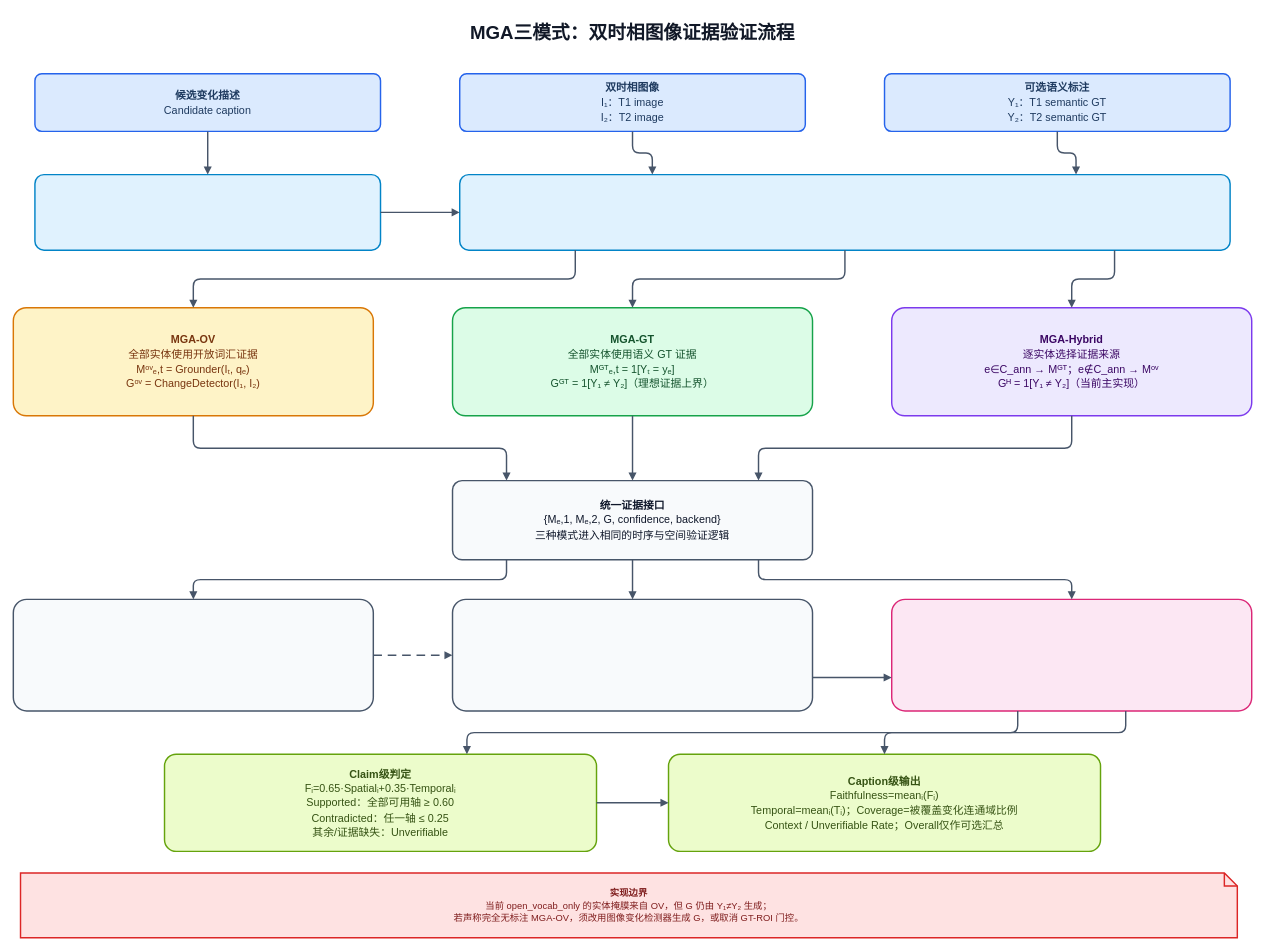
This 1264x950 diagram has some shape labels left out. The shapes that lost their labels are listed below. From the top down, each one's centre as x and y in pixels, then its label:
At (207,212): "Parser、同义词规范化与原子命题 Caption → atomic claims cᵢ=(entity, change, location, role)".
At (844,212): "证据路由 按模式与实体是否属于标注类别集 C_ann， 选择 T1/T2 实体掩膜来源，并确定变化 ROI G".
At (193,654): "双时相变化掩膜 Aₑ=Mₑ,2 ∩ ¬D₂(Mₑ,1) Rₑ=Mₑ,1 ∩ ¬D₂(Mₑ,2) Xₑ=Mₑ,1 ⊕ Mₑ,2".
At (632,654): "实体变化关系 Q=D₃(R_source) ∩ D₃(A_target) ∩ Lℓ S_rel=|Q ∩ G| / |Q| G：GT 或图像推断的变化 ROI".
At (1071,654): "Claim级分量 Spatial Support Temporal Support Coverage / Context Verifiability".
